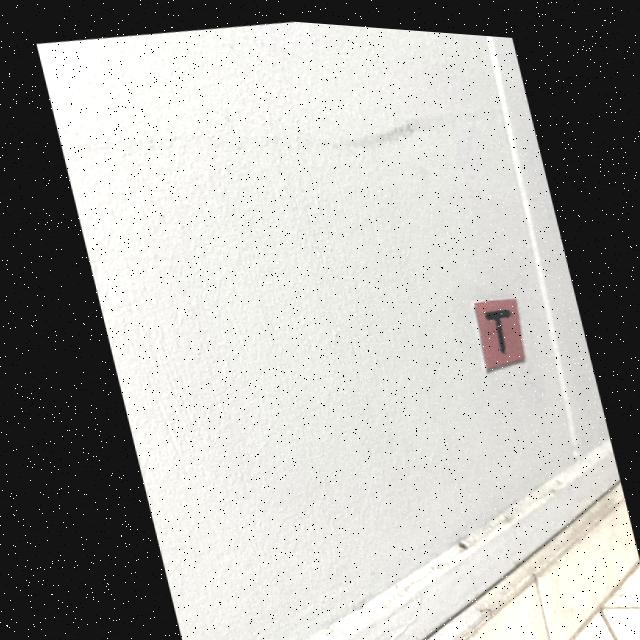T: (481, 302, 506, 345)
